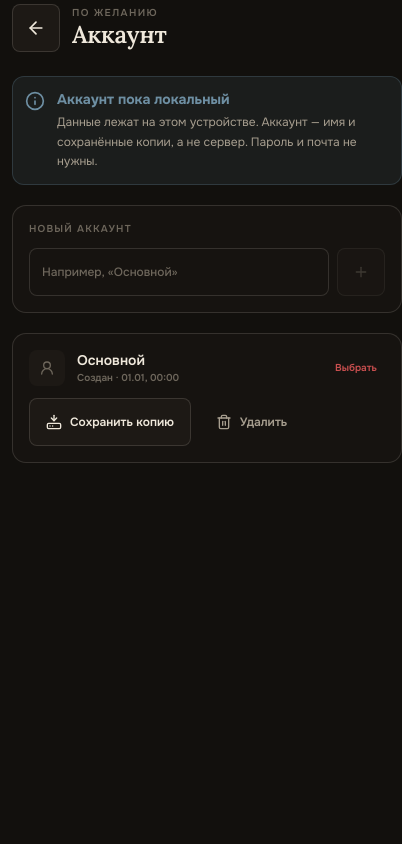
Accounts page › saves a copy and shows its summary
The width and height of the screenshot is (402, 844).
Check: the text "Основной" is shown, box [77, 350, 145, 368]
What coordinates should you click on to do the following:
click the button "Выбрать"
I would click on:
 (356, 368)
Its box is [327, 350, 385, 386].
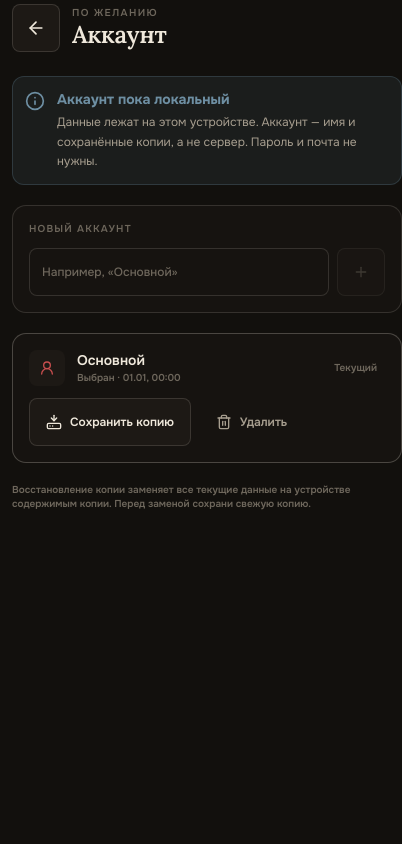
What coordinates should you click on to do the following:
click the button "Сохранить копию"
I would click on:
 (110, 422)
Its box is [29, 398, 191, 446].
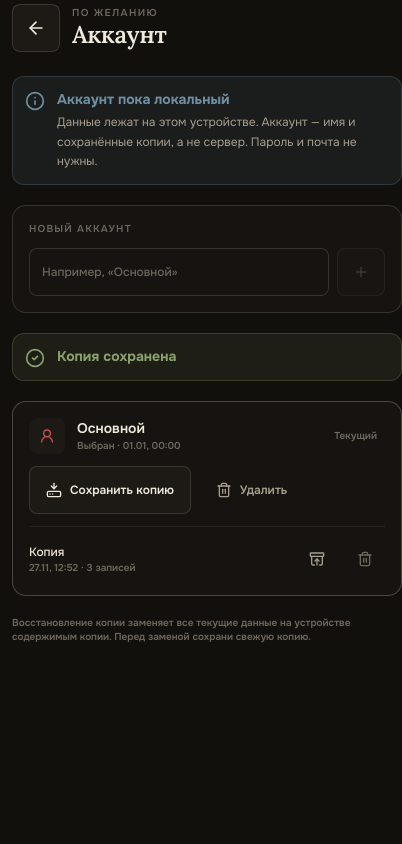
Check: the text "Копия сохранена" is shown, box [57, 346, 176, 366]
